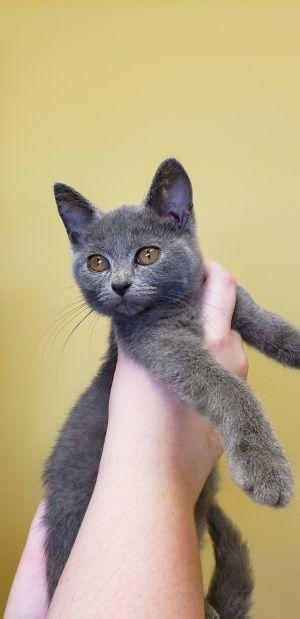rblue: (44, 151, 215, 327)
